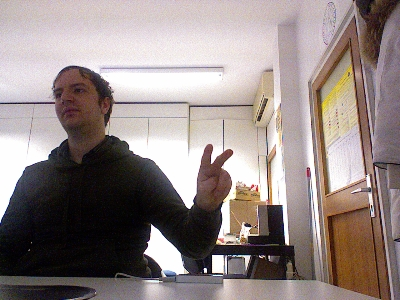剪刀: (191, 142, 235, 212)
